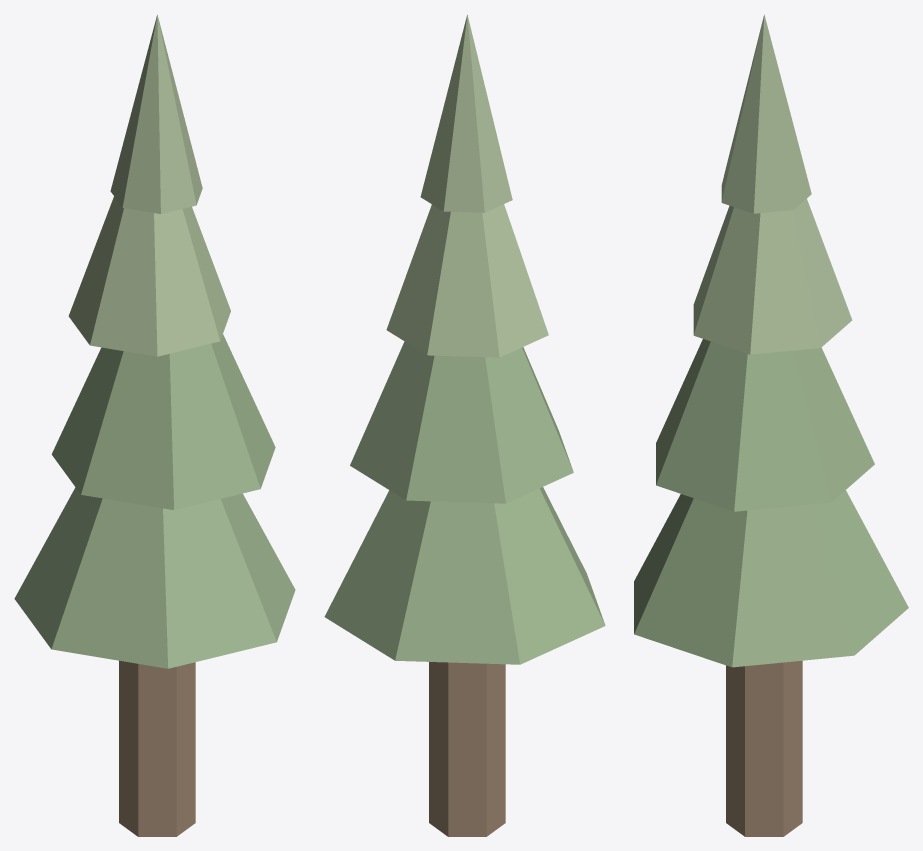
Rendered from tree-pine.glb.
3 renders of one model, left to right at view 1: azimuth 30°, elevation 25°; view 2: azimuth 150°, elevation 25°; view 3: azimuth 270°, elevation 25°, orthographic.
Visible parts, largest first — view 1: tree-pine_leaf, tree-pine_leaf-light, tree-pine_bark; view 2: tree-pine_leaf, tree-pine_leaf-light, tree-pine_bark; view 3: tree-pine_leaf, tree-pine_leaf-light, tree-pine_bark.
Part boxes in pixels (x1,y1,x2,y2): tree-pine_leaf: (14,334,295,668); tree-pine_leaf-light: (68,14,230,356); tree-pine_bark: (119,660,195,836); tree-pine_leaf: (324,341,605,664); tree-pine_leaf-light: (386,14,548,357); tree-pine_bark: (429,662,505,836); tree-pine_leaf: (634,339,908,667); tree-pine_leaf-light: (693,14,852,354); tree-pine_bark: (726,660,802,836).
Bounding box in the file's own units: 0.8319 × 2.63 × 0.8111.
